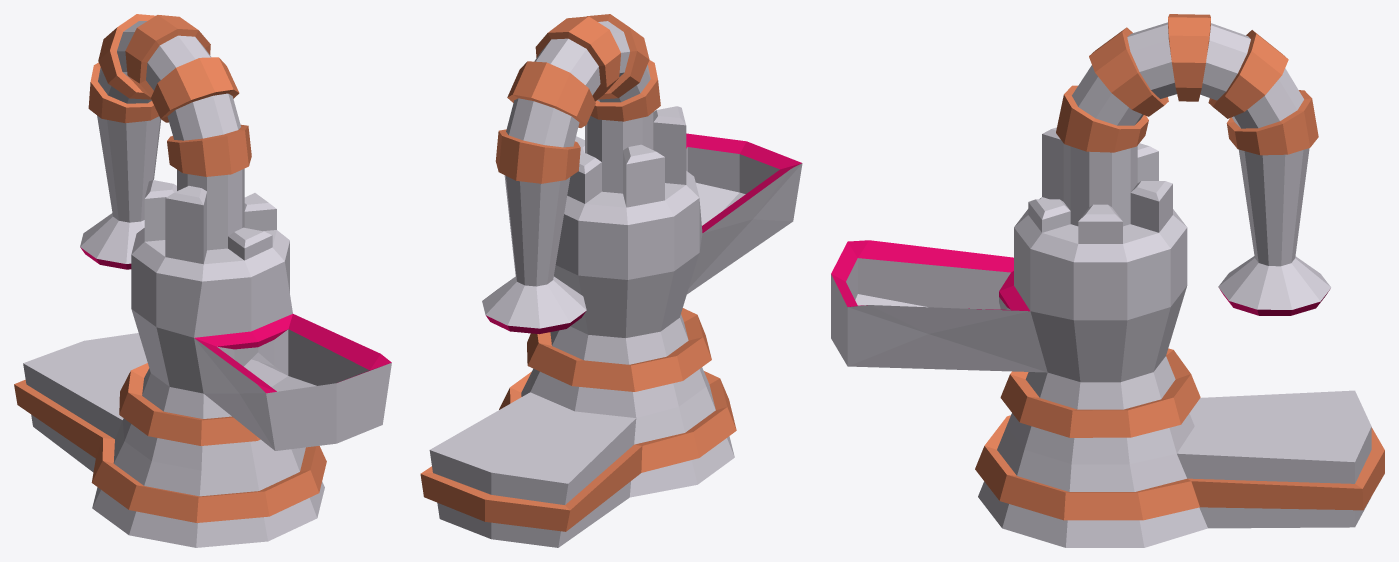
The model's file is Alchemical Apparatus.fbx.
3 renders of one model, left to right at view 1: azimuth 30°, elevation 25°; view 2: azimuth 150°, elevation 25°; view 3: azimuth 270°, elevation 25°, orthographic. The views are drawn at different scales.
Visible parts, largest first — view 1: Cylinder; view 2: Cylinder; view 3: Cylinder.
Part boxes in pixels (x1,y1,x2,y2): Cylinder: (14, 14, 391, 547); Cylinder: (420, 14, 802, 547); Cylinder: (831, 14, 1384, 547).
Bounding box in the file's own units: 282 × 609 × 639.
